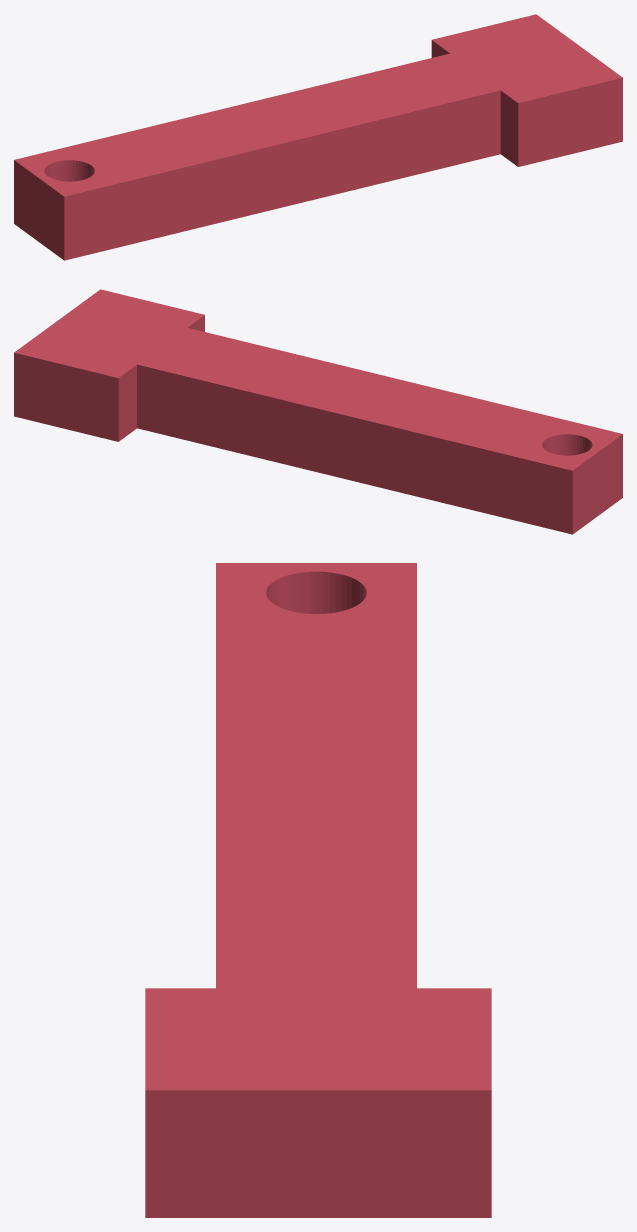
3 renders of one model, top to bottom at view 1: azimuth 30°, elevation 25°; view 2: azimuth 150°, elevation 25°; view 3: azimuth 270°, elevation 25°, orthographic. The views are drawn at different scales.
Visible parts, largest first — view 1: Mesh_Mesh_head_geo.001_lambert2SG.001; view 2: Mesh_Mesh_head_geo.001_lambert2SG.001; view 3: Mesh_Mesh_head_geo.001_lambert2SG.001.
Boxes of the visible parts, bbox=[...] form: Mesh_Mesh_head_geo.001_lambert2SG.001: bbox=[14, 14, 622, 260]; Mesh_Mesh_head_geo.001_lambert2SG.001: bbox=[14, 289, 622, 534]; Mesh_Mesh_head_geo.001_lambert2SG.001: bbox=[145, 563, 491, 1217].
Size of the model in its own units: 0.62 by 0.07 by 0.172.
